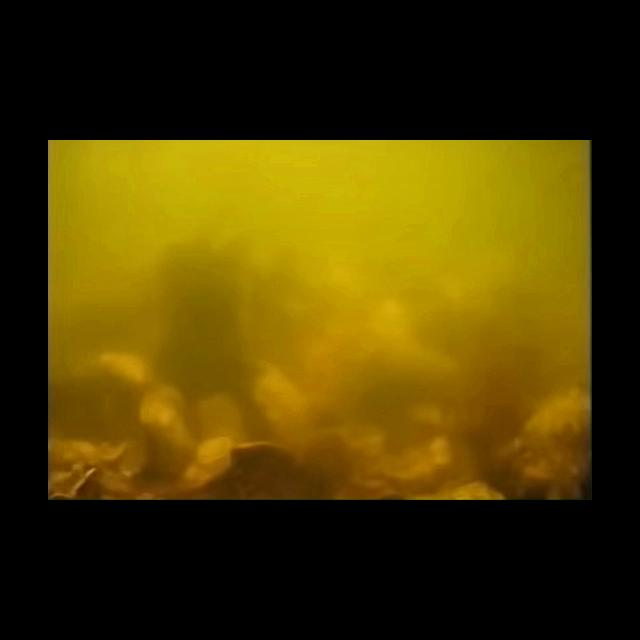Oyster-Closed: (376, 436, 455, 497), (140, 386, 192, 468), (184, 436, 234, 488), (50, 464, 101, 499), (231, 441, 294, 469)
